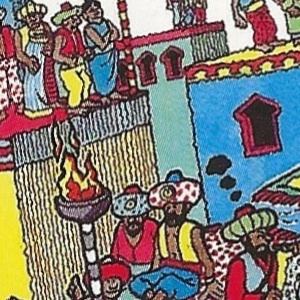Odlaw: (140, 111, 160, 189)
